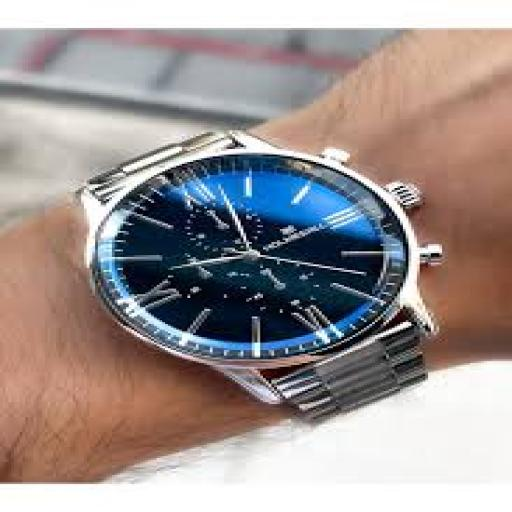KolSaati: (48, 106, 480, 422)
